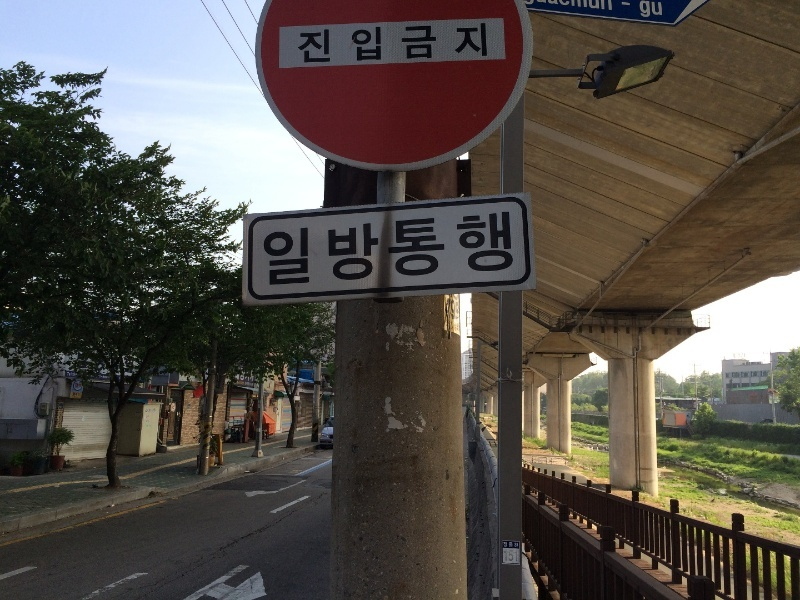text: (273, 209, 288, 289), (289, 209, 304, 289), (305, 209, 320, 289), (321, 209, 336, 289), (337, 209, 352, 289), (353, 209, 368, 289), (369, 209, 384, 289), (385, 209, 400, 289), (401, 209, 416, 289), (417, 209, 432, 289), (433, 209, 448, 289), (449, 209, 464, 289), (465, 209, 480, 289), (481, 209, 496, 289), (497, 209, 512, 289), (261, 209, 272, 289), (305, 21, 320, 66), (321, 21, 336, 66), (337, 21, 352, 66), (353, 21, 368, 66), (369, 21, 384, 66), (385, 21, 400, 66), (401, 21, 416, 66), (417, 21, 432, 66), (433, 21, 448, 66), (449, 21, 464, 66), (465, 21, 480, 66), (481, 21, 488, 66), (241, 363, 256, 384), (298, 21, 304, 66), (625, 2, 640, 18), (641, 2, 656, 18), (230, 363, 240, 384), (529, 1, 544, 13), (545, 1, 560, 13), (561, 1, 576, 13), (577, 1, 592, 13), (593, 1, 608, 13), (513, 209, 515, 289), (81, 371, 96, 381), (97, 371, 112, 381), (113, 371, 127, 381), (67, 371, 80, 381), (257, 363, 262, 384), (504, 549, 512, 562), (657, 2, 663, 18), (513, 549, 518, 562), (609, 1, 614, 13), (503, 542, 512, 548), (621, 2, 624, 18), (513, 542, 519, 548), (526, 1, 528, 13)
